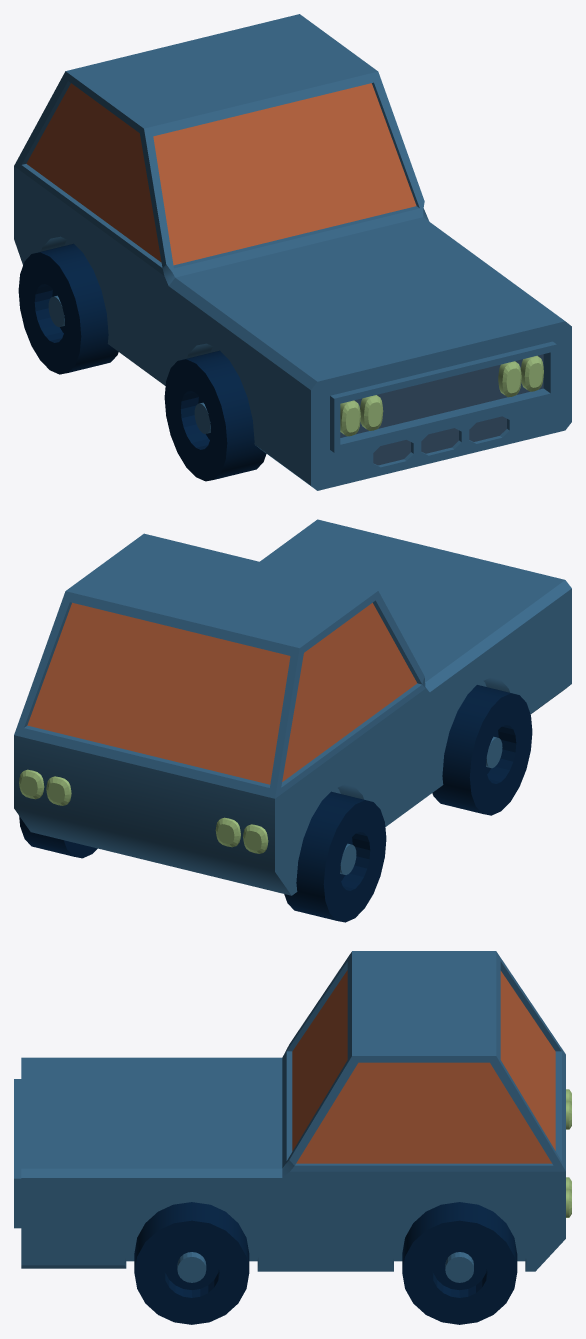
Rendered from car (1).fbx.
3 renders of one model, top to bottom at view 1: azimuth 30°, elevation 25°; view 2: azimuth 150°, elevation 25°; view 3: azimuth 270°, elevation 25°, orthographic. The views are drawn at different scales.
Visible parts, largest first — view 1: CarBody, Wheels_Front, Wheels_Back; view 2: CarBody, Wheels_Back, Wheels_Front; view 3: CarBody, Wheels_Back, Wheels_Front.
Part boxes in pixels (x1,y1,x2,y2): CarBody: (14,14,571,490); Wheels_Front: (164,350,266,481); Wheels_Back: (18,243,118,374); CarBody: (14,519,571,895); Wheels_Back: (19,791,386,922); Wheels_Front: (432,685,532,815); CarBody: (14,951,571,1271); Wheels_Back: (402,1202,517,1324); Wheels_Front: (134,1202,249,1324).
Size of the model in its own units: 711 by 615 by 1228.
